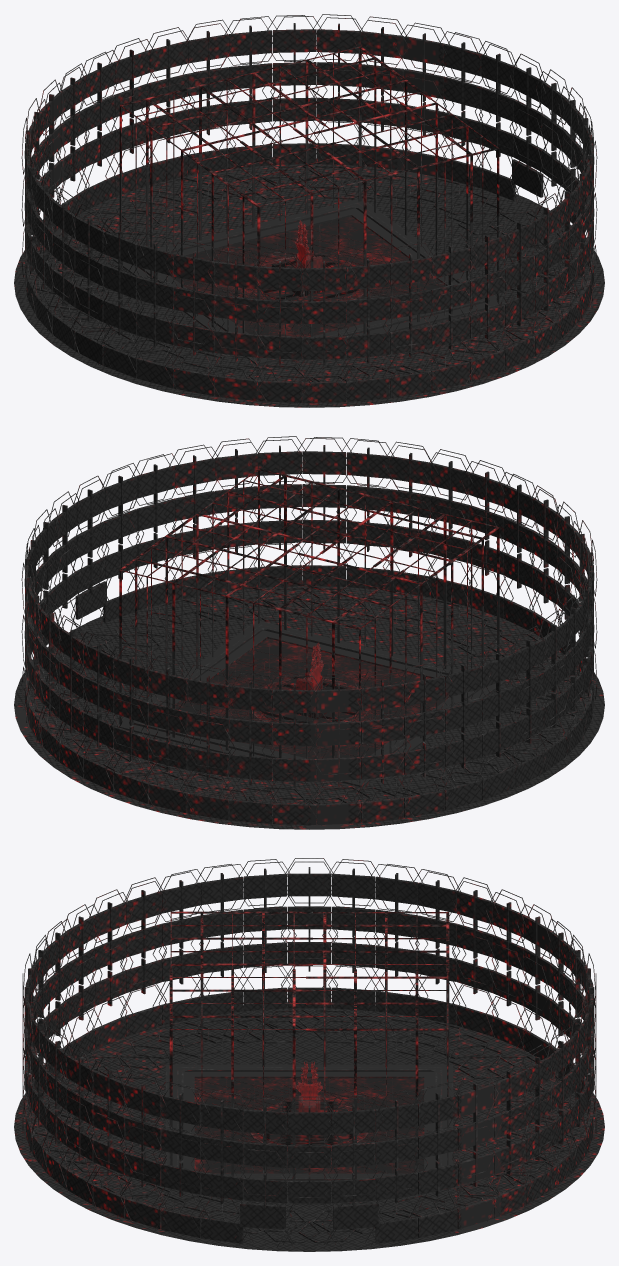
Rendered from throne-room.glb.
3 views of the same model, one above another, from view 1: azimuth 30°, elevation 25°; view 2: azimuth 150°, elevation 25°; view 3: azimuth 270°, elevation 25° (orthographic).
Parts seen in each view (by area): view 1: Throne_land_1; view 2: Throne_land_1; view 3: Throne_land_1.
Boxes of the visible parts, x1,y1,x2,y2 form: Throne_land_1: (14,14,604,407); Throne_land_1: (14,436,604,829); Throne_land_1: (14,858,604,1251).
Bounding box in the file's own units: 20.58 × 6.08 × 20.58.
Materials: 1 (1 with a texture image).
